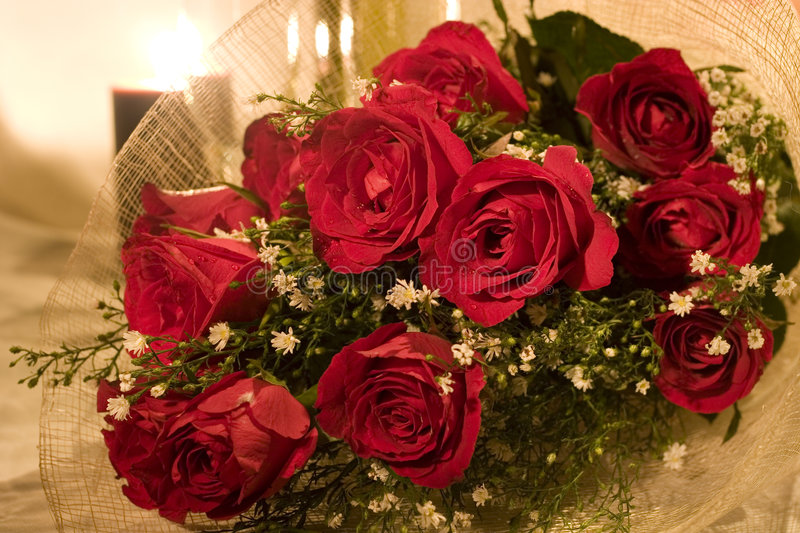RedRose: (96, 370, 323, 528), (437, 141, 617, 324), (307, 319, 494, 484), (305, 97, 471, 281), (612, 156, 769, 291), (113, 232, 276, 361), (575, 35, 714, 182), (644, 277, 779, 422), (369, 19, 537, 128), (136, 168, 268, 253), (240, 104, 319, 216)
